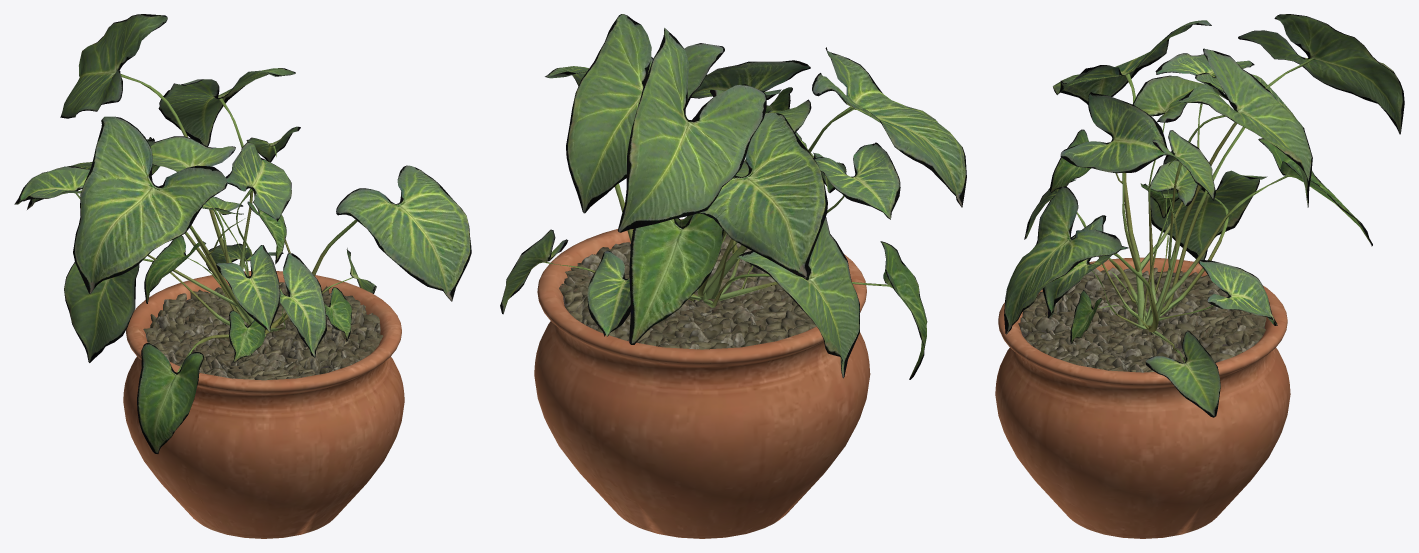
File: potted_plant_02.glb
3 views of the same model, side by side, from view 1: azimuth 30°, elevation 25°; view 2: azimuth 150°, elevation 25°; view 3: azimuth 270°, elevation 25° (orthographic). The views are drawn at different scales.
Parts seen in each view (by area): view 1: potted_plant_02_leaves, potted_plant_02_pot, potted_plant_02_dirt; view 2: potted_plant_02_leaves, potted_plant_02_pot, potted_plant_02_dirt; view 3: potted_plant_02_leaves, potted_plant_02_pot, potted_plant_02_dirt.
Part boxes in pixels (x1,y1,x2,y2): potted_plant_02_leaves: (14, 14, 471, 453); potted_plant_02_pot: (123, 271, 404, 538); potted_plant_02_dirt: (143, 282, 383, 380); potted_plant_02_leaves: (500, 14, 966, 379); potted_plant_02_pot: (534, 219, 870, 538); potted_plant_02_dirt: (559, 233, 816, 349); potted_plant_02_leaves: (1004, 14, 1404, 417); potted_plant_02_pot: (995, 257, 1290, 538); potted_plant_02_dirt: (1018, 267, 1266, 372).
Bounding box in the file's own units: 0.7009 × 0.8412 × 0.6574.
Materials: 2 (2 with a texture image).
